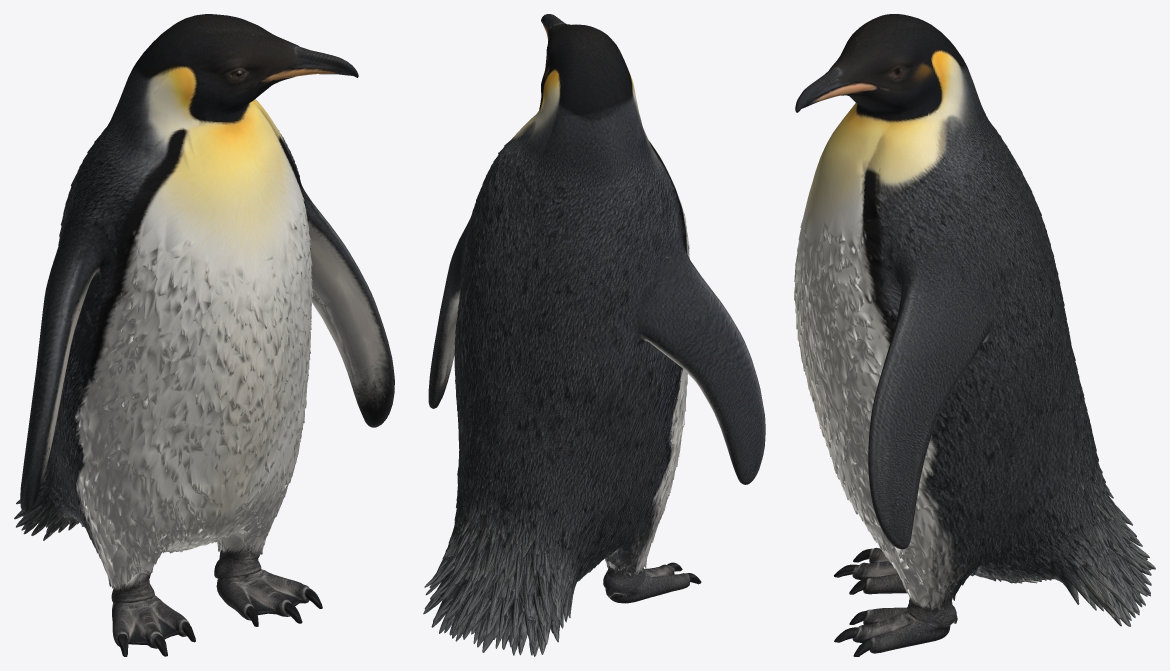
The model's file is penguin.glb.
3 views of the same model, side by side, from view 1: azimuth 30°, elevation 25°; view 2: azimuth 150°, elevation 25°; view 3: azimuth 270°, elevation 25° (orthographic). The views are drawn at different scales.
Size of the model in its own units: 0.032 by 0.05 by 0.0276.
1 material, 1 textured.
